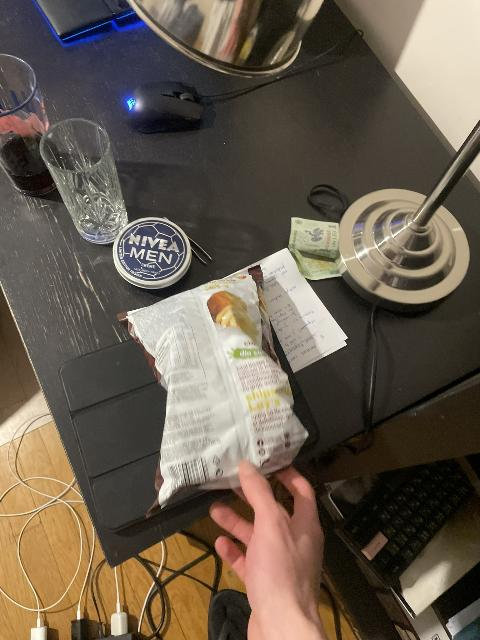Lays Beef Grilled Ribs 125g: (110, 263, 308, 514)
